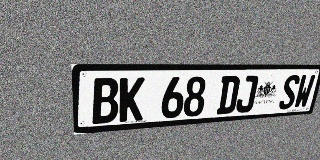6: (161, 77, 186, 119)
8: (182, 76, 208, 117)
B: (92, 78, 119, 124)
D: (216, 76, 241, 114)
J: (235, 75, 259, 113)
K: (119, 77, 145, 122)
S: (278, 75, 301, 110)
W: (293, 74, 316, 109)
